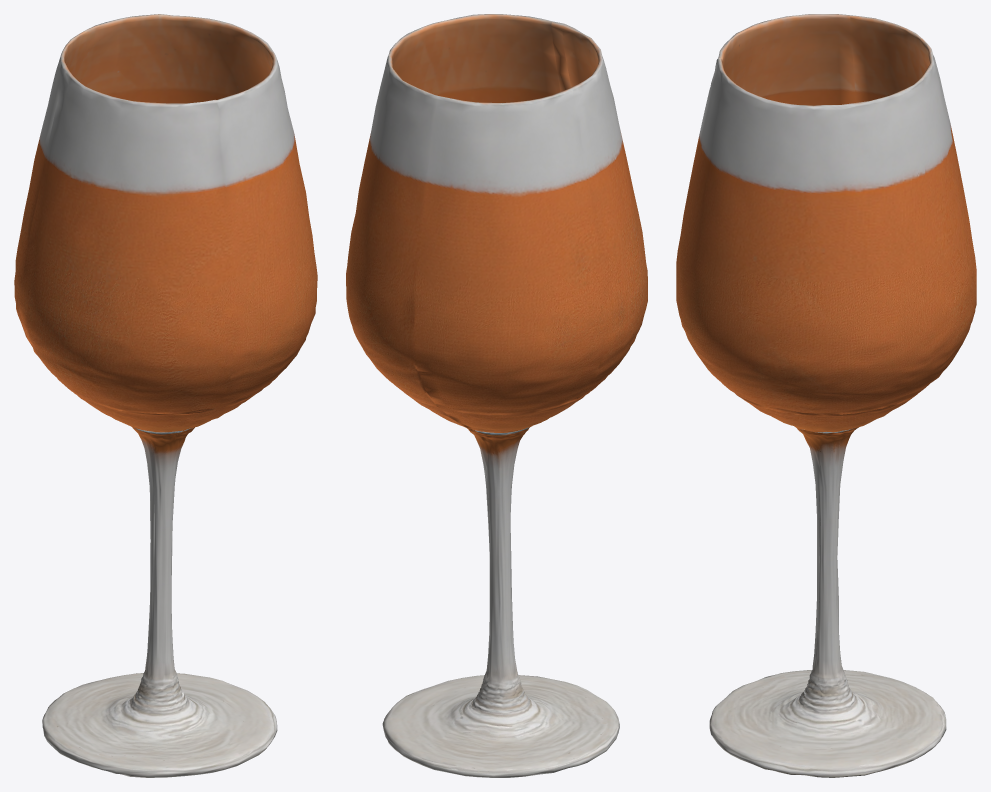
Rendered from aperol_spritz.fbx.
3 renders of one model, left to right at view 1: azimuth 30°, elevation 25°; view 2: azimuth 150°, elevation 25°; view 3: azimuth 270°, elevation 25°, orthographic.
Parts seen in each view (by area): view 1: meshes[0]; view 2: meshes[0]; view 3: meshes[0].
Boxes of the visible parts, x1=… form: meshes[0]: x1=14, y1=14, x2=317, y2=777; meshes[0]: x1=346, y1=14, x2=647, y2=777; meshes[0]: x1=676, y1=14, x2=976, y2=777.
Size of the model in its own units: 40.82 by 99.8 by 40.43.
1 material, 1 textured.
